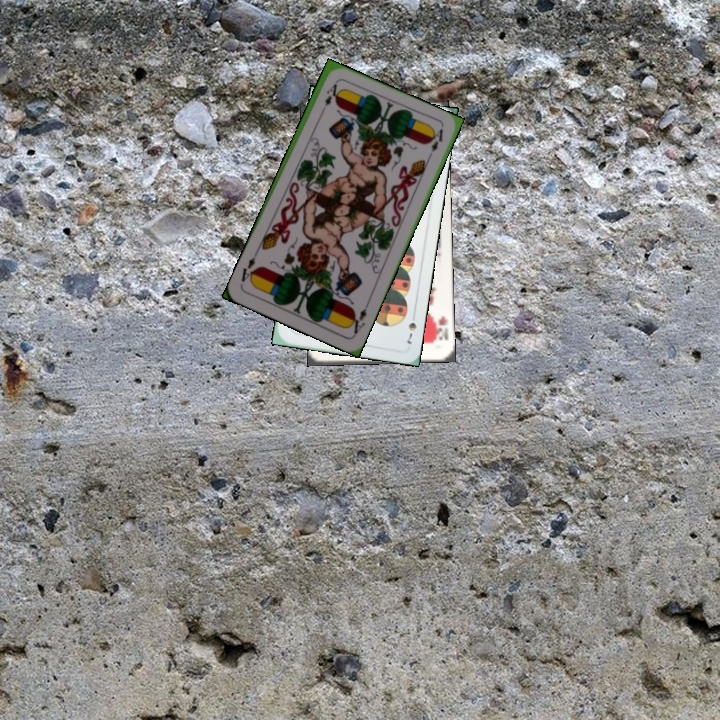EA: (344, 299, 371, 338), (316, 80, 339, 117)
HK: (430, 311, 450, 346)
S7: (402, 308, 419, 347)
